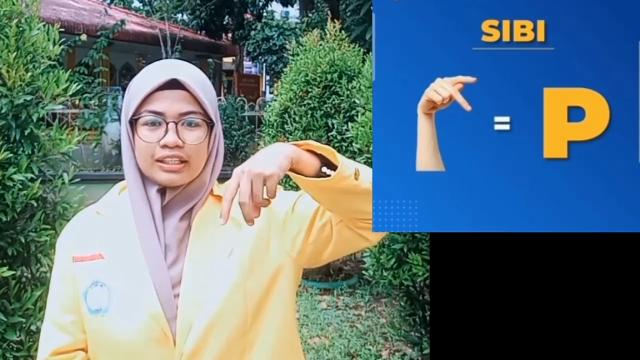P: (218, 141, 294, 229), (414, 74, 480, 118)
